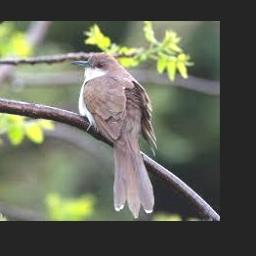Cuckoo: (71, 52, 158, 218)
